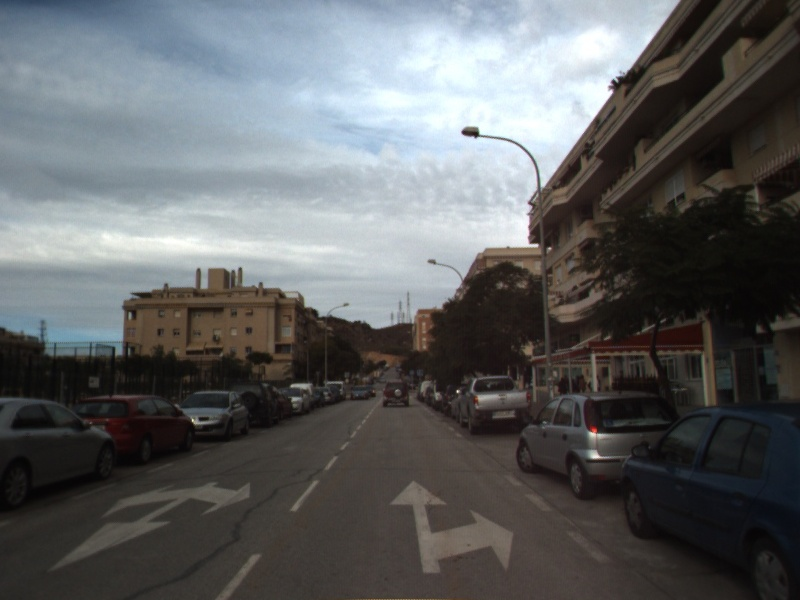STRAIGHT_RIGHT: (387, 478, 515, 576)
